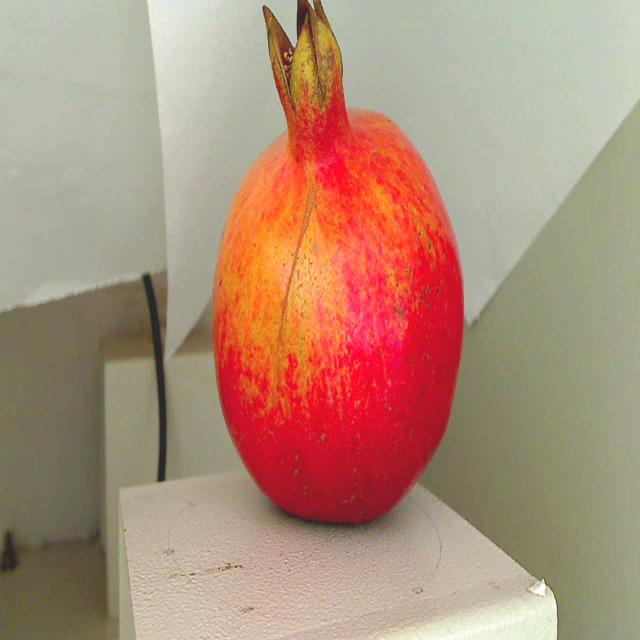pomegranate: (205, 0, 473, 548)
